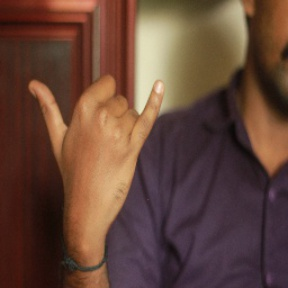J: (26, 56, 166, 206)
